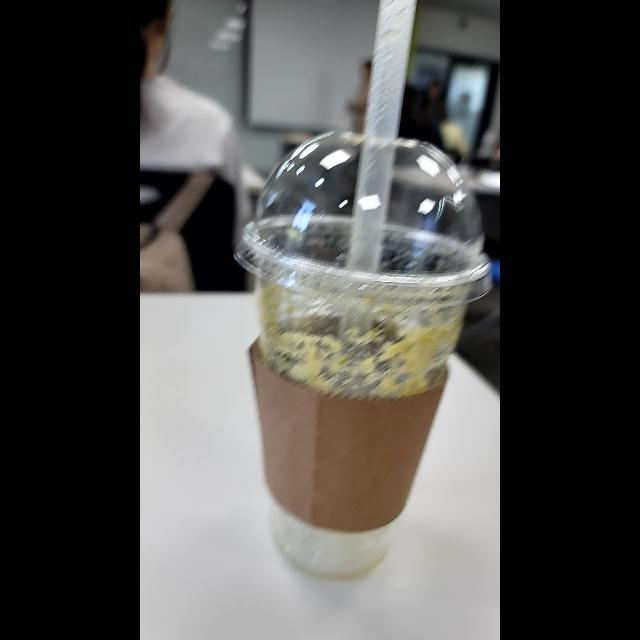plastic_cup: (224, 122, 496, 584)
plastic_cup_lid: (232, 125, 494, 305)
straw: (364, 0, 408, 300)
